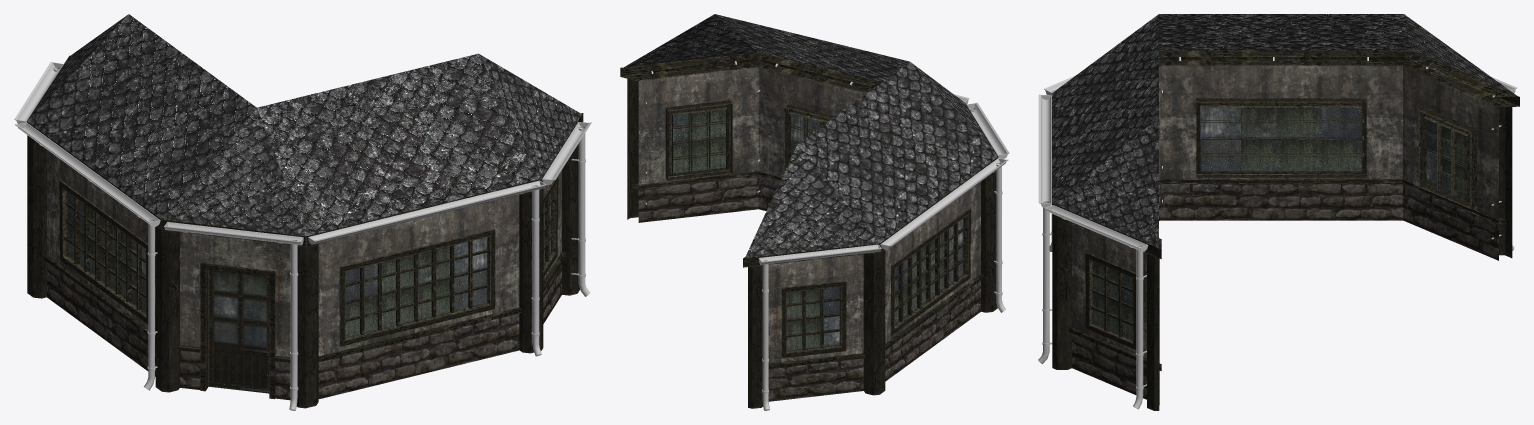
Rendered from pubwall03.DAE.
3 views of the same model, side by side, from view 1: azimuth 30°, elevation 25°; view 2: azimuth 150°, elevation 25°; view 3: azimuth 270°, elevation 25° (orthographic). The views are drawn at different scales.
Parts seen in each view (by area): view 1: Object069, pPlane006, Object071, Object070, Object072, Object073, Object074; view 2: Object069, pPlane006, Object071, Object072, Object070, Object073, Object074; view 3: Object069, pPlane006, Object071, Object072, Object070, Object073, Object074.
Boxes of the visible parts, <box> form: Object069: <box>27,14,581,236</box>; pPlane006: <box>27,55,583,408</box>; Object071: <box>47,77,561,357</box>; Object070: <box>68,193,550,393</box>; Object072: <box>47,262,561,400</box>; Object073: <box>14,61,591,353</box>; Object074: <box>38,142,589,410</box>; Object069: <box>624,14,997,257</box>; pPlane006: <box>620,52,998,408</box>; Object071: <box>638,66,980,363</box>; Object072: <box>638,172,980,401</box>; Object070: <box>671,106,963,350</box>; Object073: <box>641,54,1009,360</box>; Object074: <box>645,61,1005,410</box>; Object069: <box>1052,14,1516,248</box>; pPlane006: <box>1052,50,1519,410</box>; Object071: <box>1072,65,1498,363</box>; Object072: <box>1072,180,1498,404</box>; Object070: <box>1093,105,1470,340</box>; Object073: <box>1038,46,1516,354</box>; Object074: <box>1038,57,1514,409</box>.
Bounding box in the file's own units: 10.66 × 6 × 10.6.
